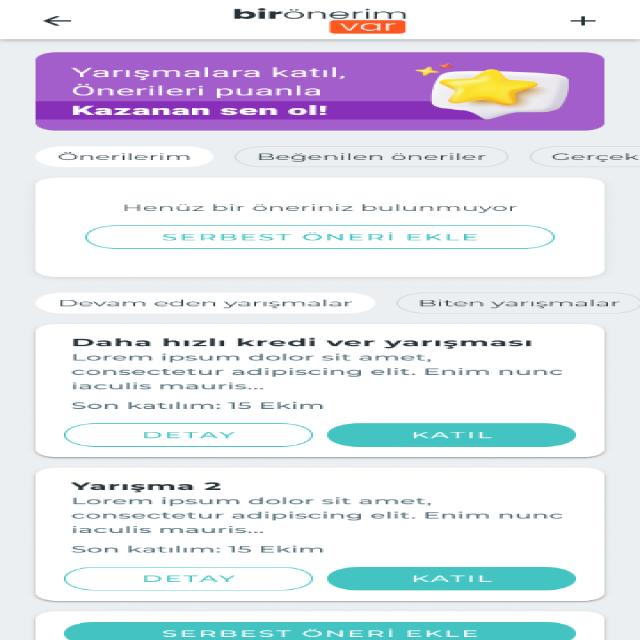QLabel: (60, 366, 564, 378), (57, 336, 533, 348), (61, 510, 563, 521), (110, 202, 526, 213), (148, 628, 482, 640), (64, 352, 448, 362), (65, 496, 448, 506), (52, 298, 356, 309), (155, 232, 487, 242), (60, 400, 327, 410), (253, 152, 492, 162), (411, 297, 623, 308), (65, 544, 324, 553), (64, 524, 266, 534), (60, 480, 224, 492), (62, 381, 266, 390), (125, 428, 252, 442), (396, 427, 505, 443), (54, 151, 192, 162), (403, 571, 497, 587), (130, 573, 238, 585), (546, 152, 640, 163)
VAppBar: (0, 0, 640, 40)
VBtn: (84, 224, 556, 250), (64, 621, 576, 640), (64, 566, 315, 592), (326, 422, 579, 447), (64, 422, 313, 447), (326, 567, 574, 592)
VCard: (33, 466, 610, 602), (31, 325, 609, 458), (34, 177, 604, 278), (31, 610, 604, 640)
VChip: (31, 292, 381, 314), (234, 146, 516, 168), (396, 291, 640, 313), (35, 146, 216, 168), (528, 146, 640, 167)
VIcon: (41, 16, 71, 26), (570, 16, 598, 26)
VImg: (34, 51, 606, 132), (219, 5, 421, 36)
